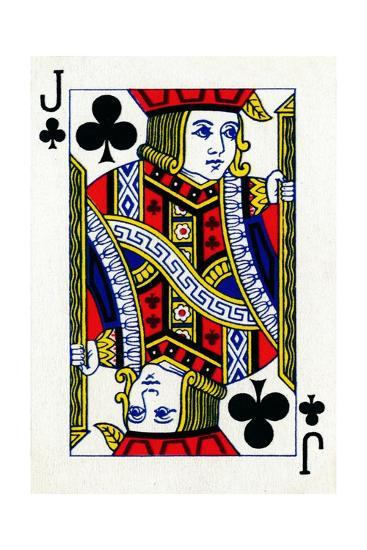jack of clubs: (28, 58, 337, 495)
